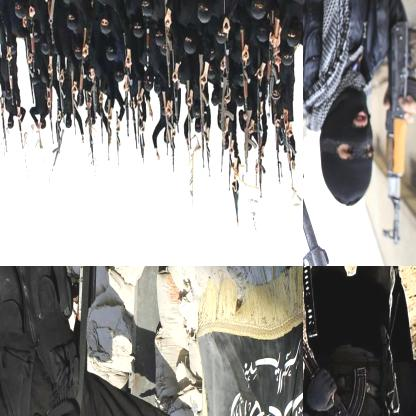rifle: (303, 317, 412, 415), (381, 22, 415, 246), (303, 0, 330, 265), (66, 266, 106, 364), (239, 79, 258, 171), (237, 30, 255, 124), (265, 9, 280, 121), (160, 0, 178, 87), (218, 78, 235, 167), (281, 112, 298, 189), (121, 74, 136, 138)
